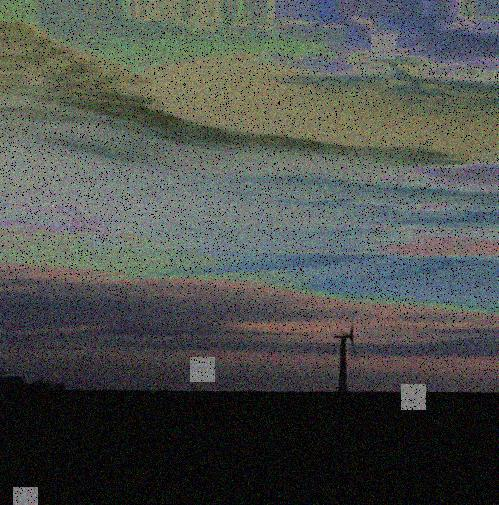wind turbine: (330, 319, 359, 393)
